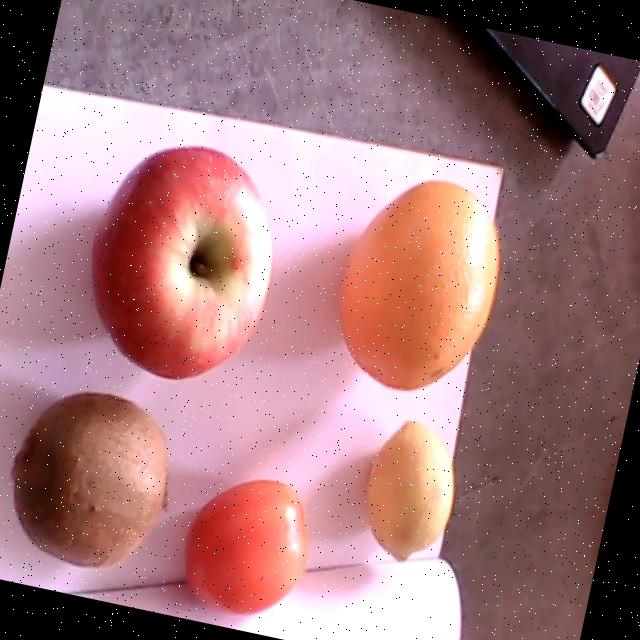apple: (91, 148, 273, 378)
kiwi: (9, 391, 168, 569)
lemon: (366, 421, 454, 561)
orange: (340, 181, 500, 390)
tomato: (184, 481, 307, 612)
